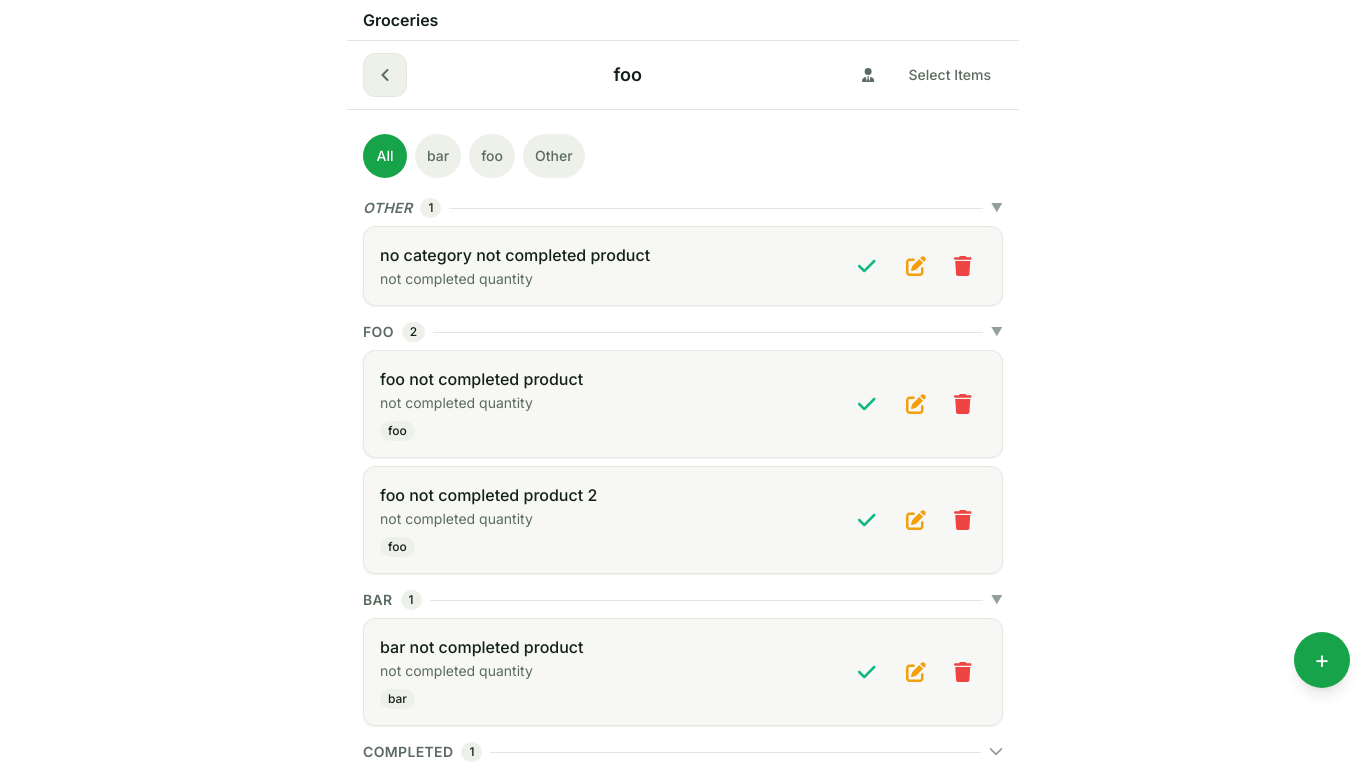
Test: ListContainer › Add item FAB and modal › retains cached field configs after dismiss without a second config fetch
Step 1. Click the button with test id "list-add-fab" → (1322, 660), box [1294, 632, 1350, 688]
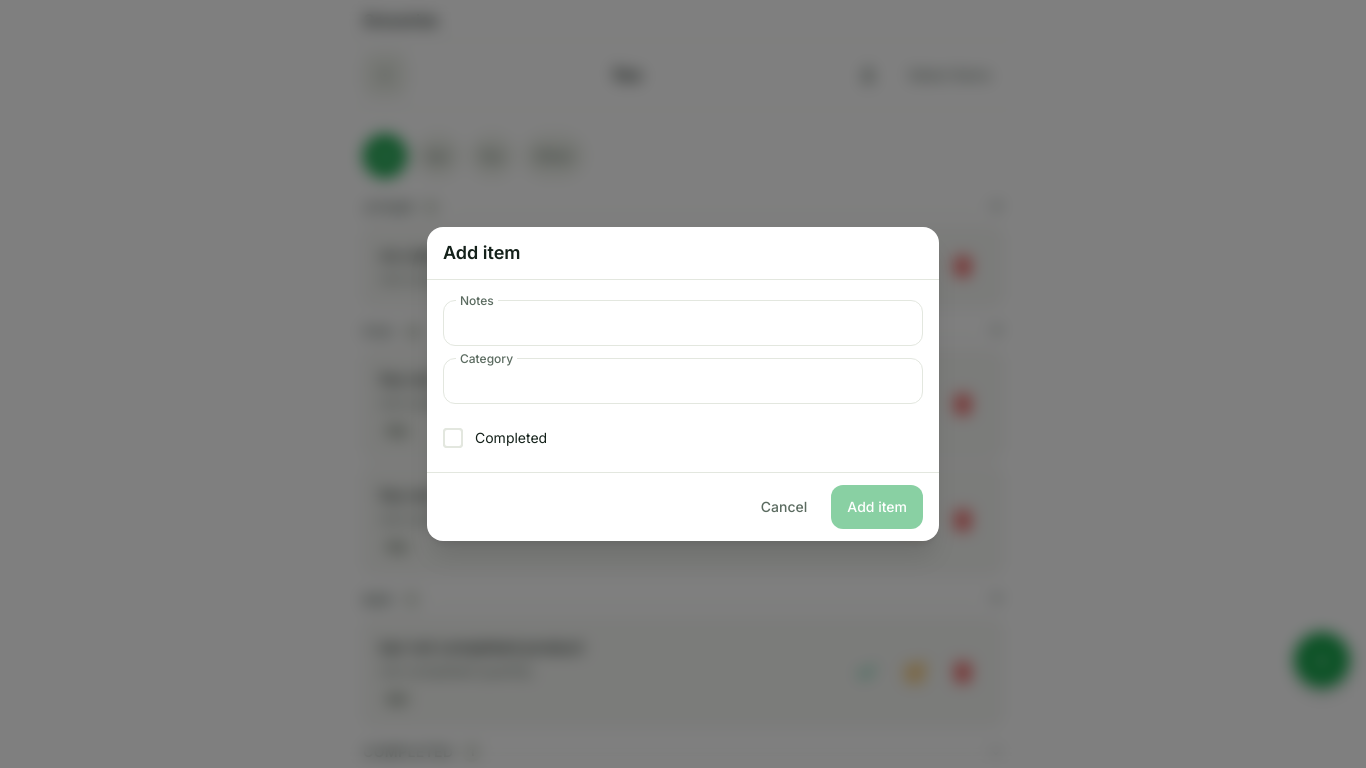
Expected: the element with test id "add-list-item-modal" is shown, [427, 227, 939, 541]
Expected: the field labelled "Notes" is shown, [444, 301, 922, 345]
Step 2. Click the button with test id "add-list-item-cancel" → (784, 507), box [745, 485, 823, 529]
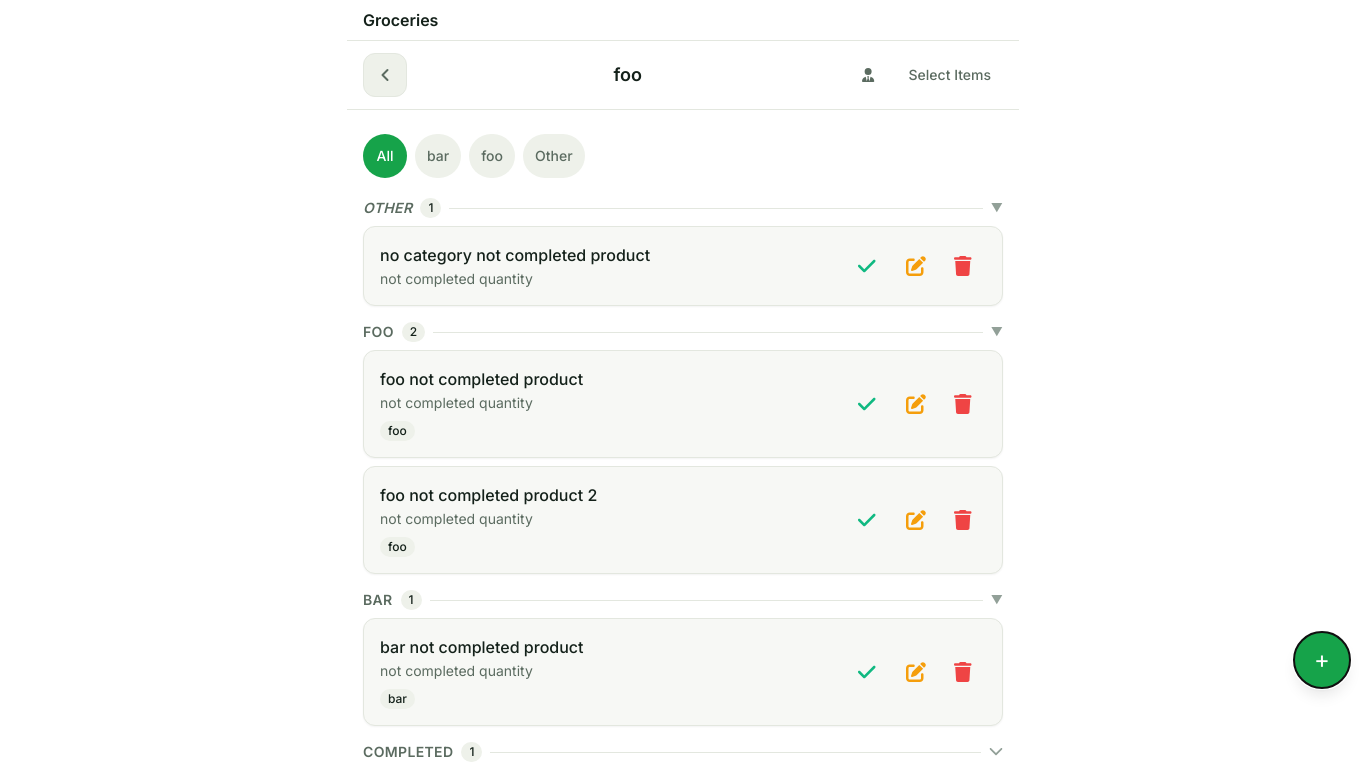
Expected: the element with test id "add-list-item-modal" is gone
Step 3. Click the button with test id "list-add-fab" → (1322, 660), box [1294, 632, 1350, 688]
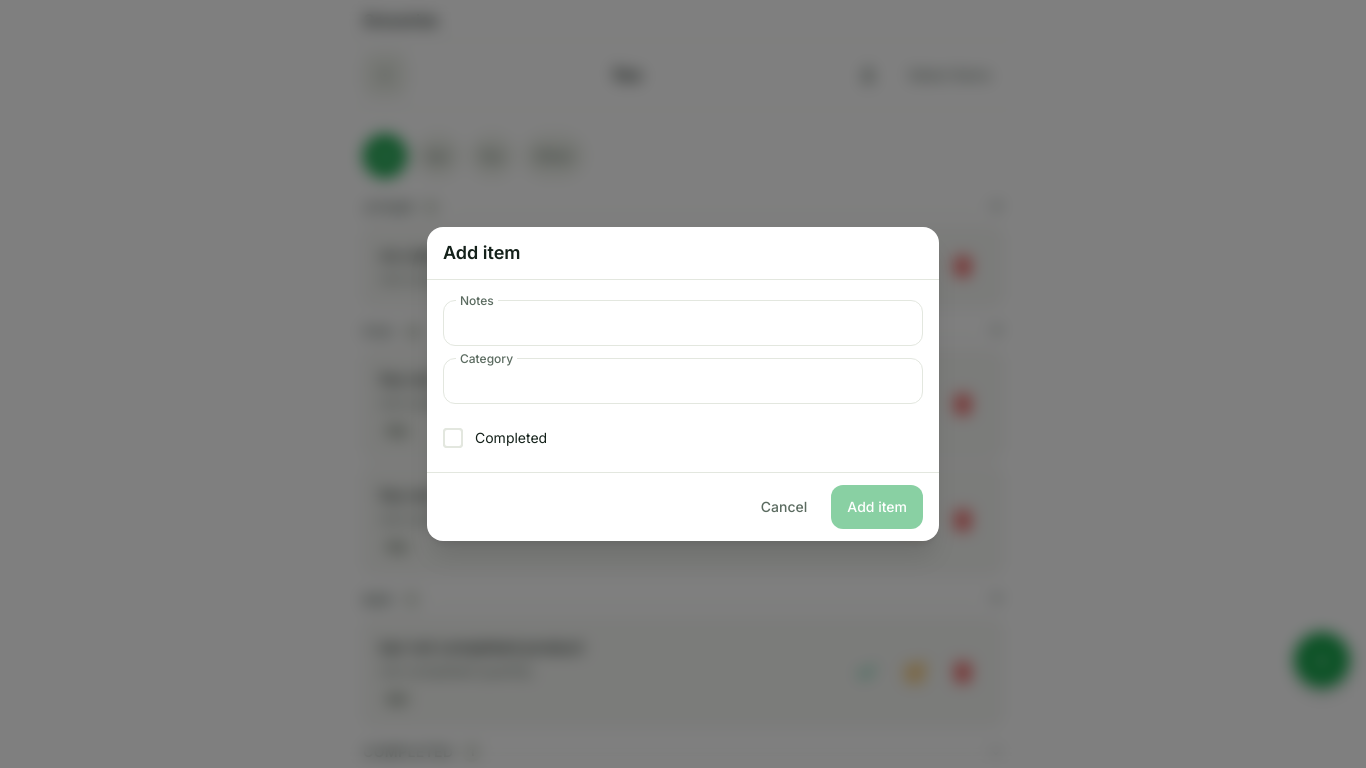
Expected: the element with test id "add-list-item-modal" is shown, [427, 227, 939, 541]
Expected: the field labelled "Notes" is shown, [444, 301, 922, 345]
